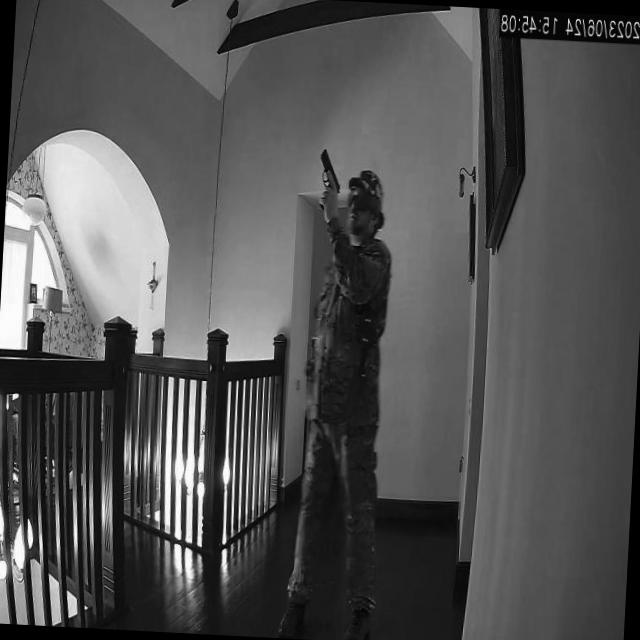gun: (317, 147, 341, 212)
person: (281, 165, 400, 640)
